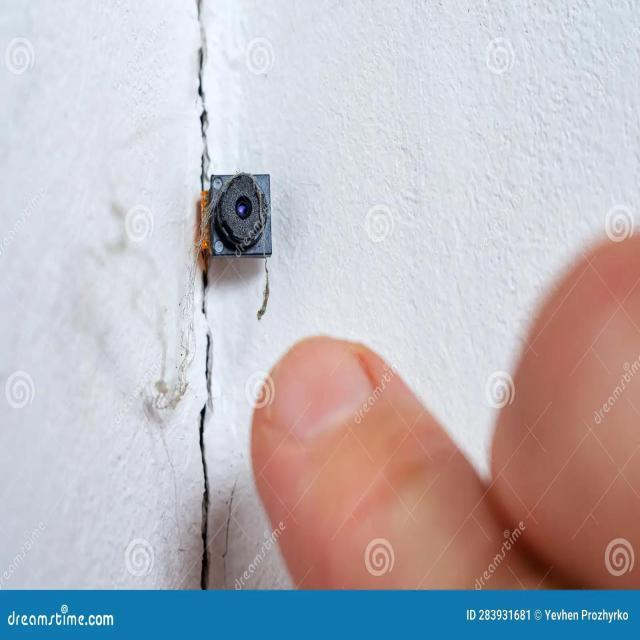hidden camera: (217, 176, 263, 243)
